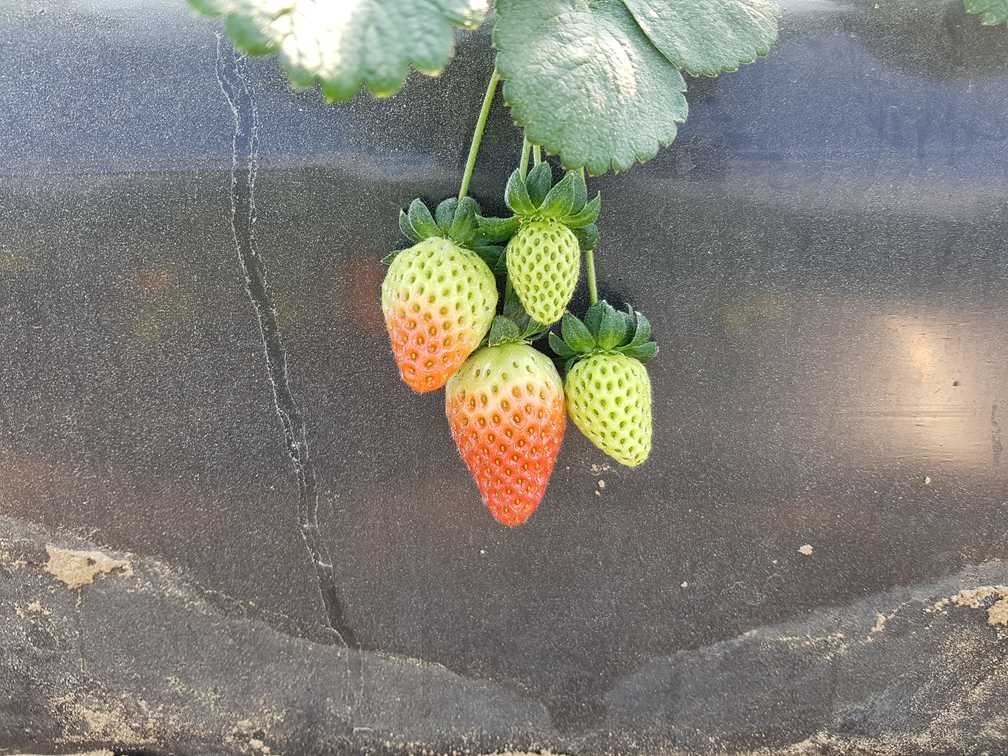peduncle: (460, 71, 499, 200), (585, 250, 597, 304), (519, 137, 529, 179)
strawberry: (446, 343, 565, 523), (382, 237, 496, 390), (567, 354, 650, 465), (506, 219, 579, 320)
